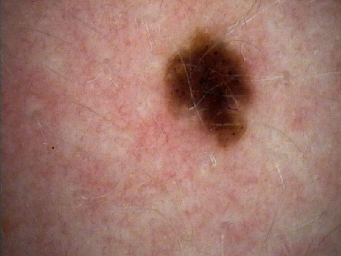melanoma: (164, 24, 255, 151)
